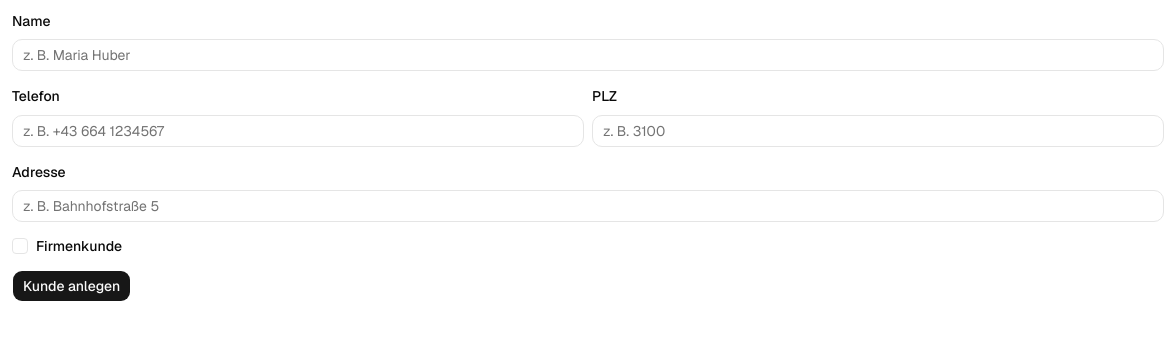
Test: KundeForm › behält getippte Werte und sendet sie, wenn die Validierung fehlschlägt
The image size is (1176, 346).
Type "3100" into the field labelled "PLZ".
click(878, 130); type("3100")  # box [592, 114, 1164, 146]
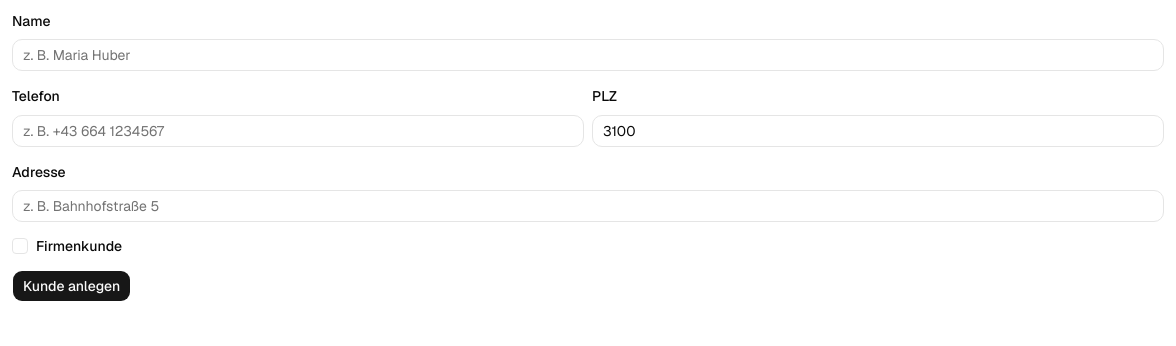
Submit the form "Kunde anlegen"
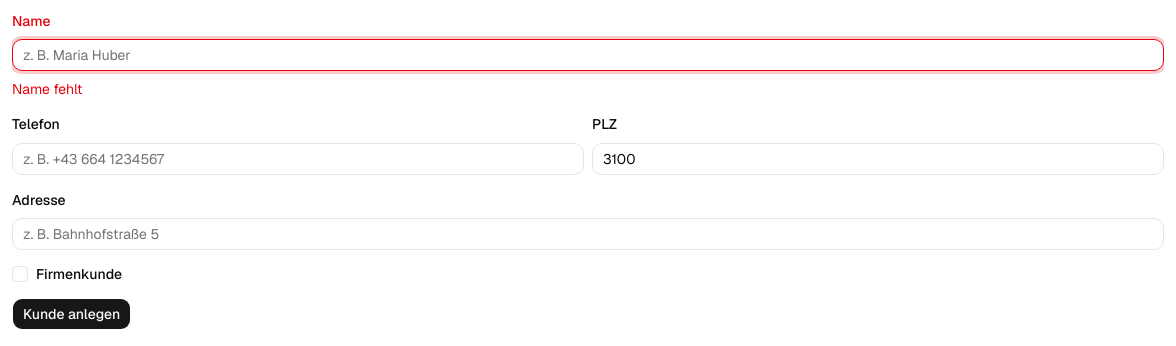
Check: the text "Name fehlt" is shown, box [12, 80, 82, 98]
